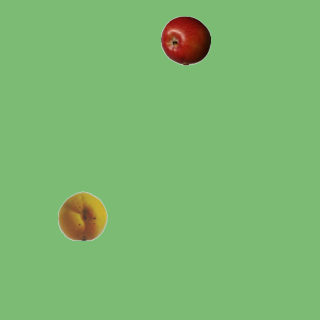Apple Braeburn: (160, 15, 210, 65)
Peach 2: (57, 190, 107, 240)
